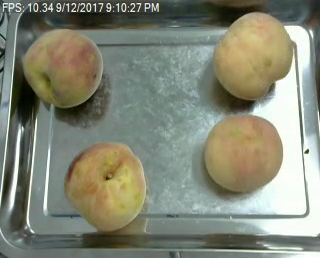Peach: (64, 141, 147, 233), (213, 11, 295, 100), (22, 27, 104, 109), (203, 113, 283, 193)
